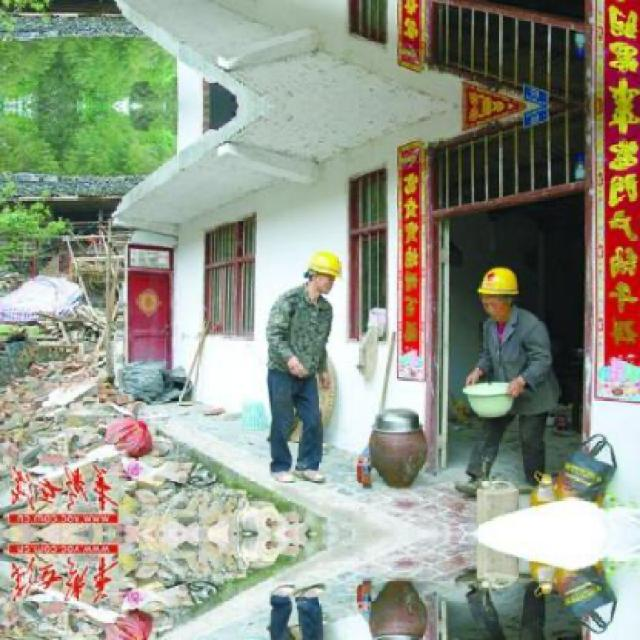con casco: (446, 255, 530, 358), (300, 247, 376, 303)
